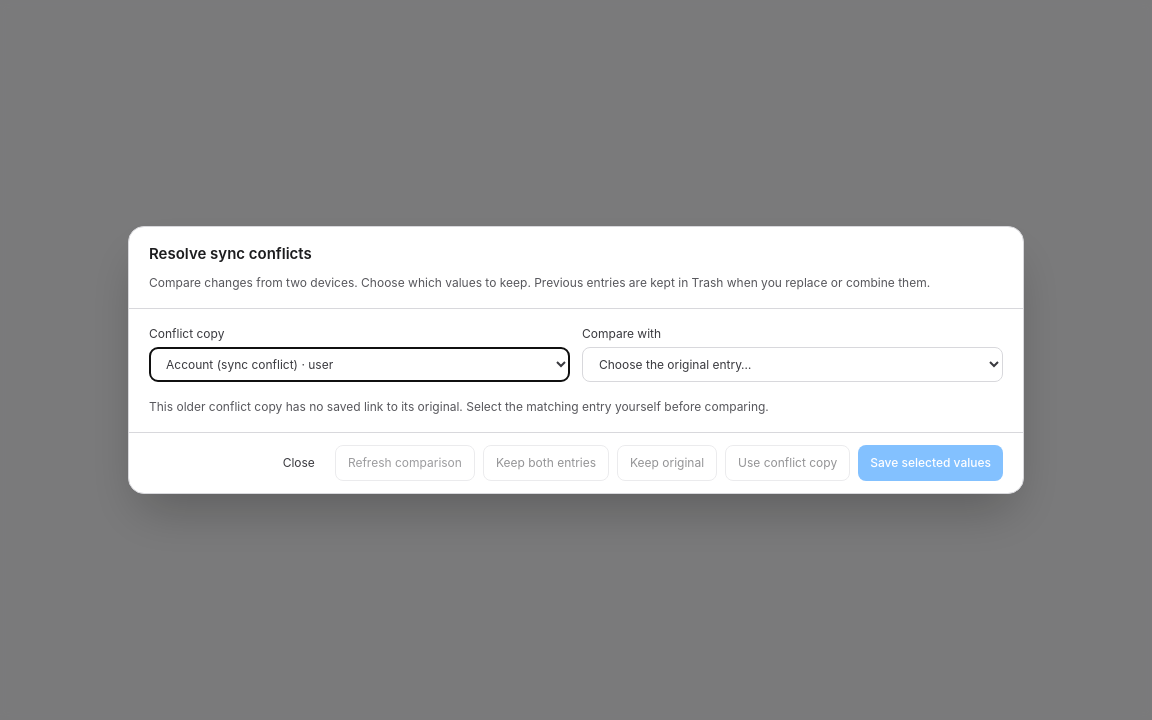
it: requires manual pairing for legacy copies
The width and height of the screenshot is (1152, 720).
Expected: the button "Save selected values" is disabled, [858,445,1003,481]
Select "Account · user" in the dropdown labelled "Compare with" at (792, 364), box [582,347,1003,382]
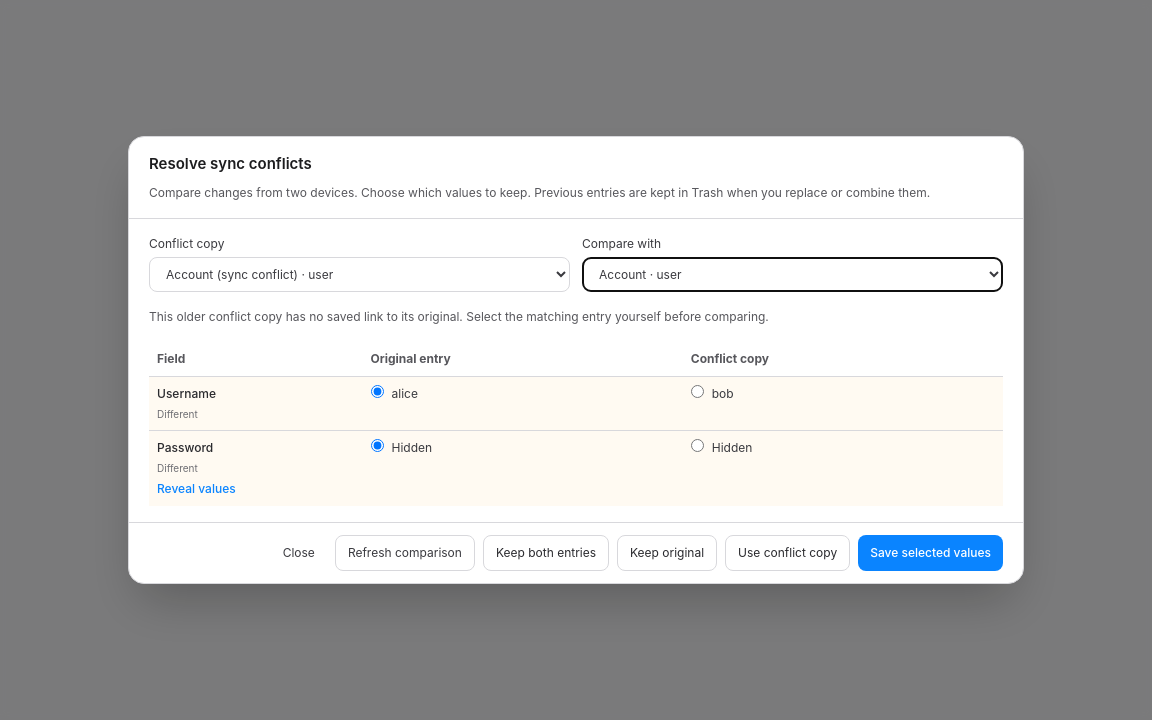
Expected: the radio button with aria-label "Username: original" is shown, [370,385,384,398]
